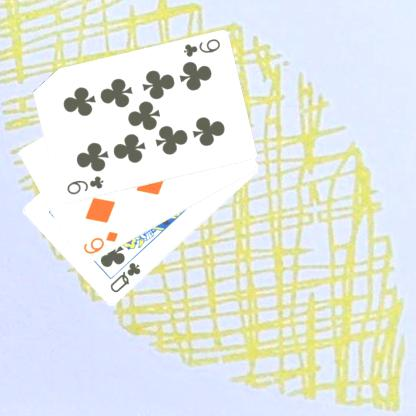6D: (80, 229, 120, 256)
9C: (64, 173, 105, 197), (180, 36, 222, 59)
QC: (107, 260, 142, 294)
